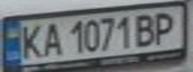0: (81, 16, 103, 52)
1: (63, 17, 84, 54), (115, 12, 136, 48)
7: (100, 15, 118, 51)
A: (39, 20, 63, 57)
B: (133, 11, 160, 47)
K: (15, 20, 45, 60)
P: (148, 9, 181, 45)
